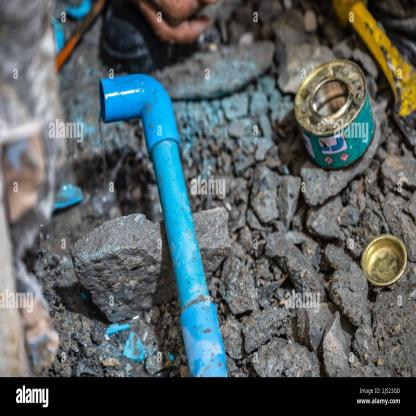PVC: (98, 74, 228, 376)
